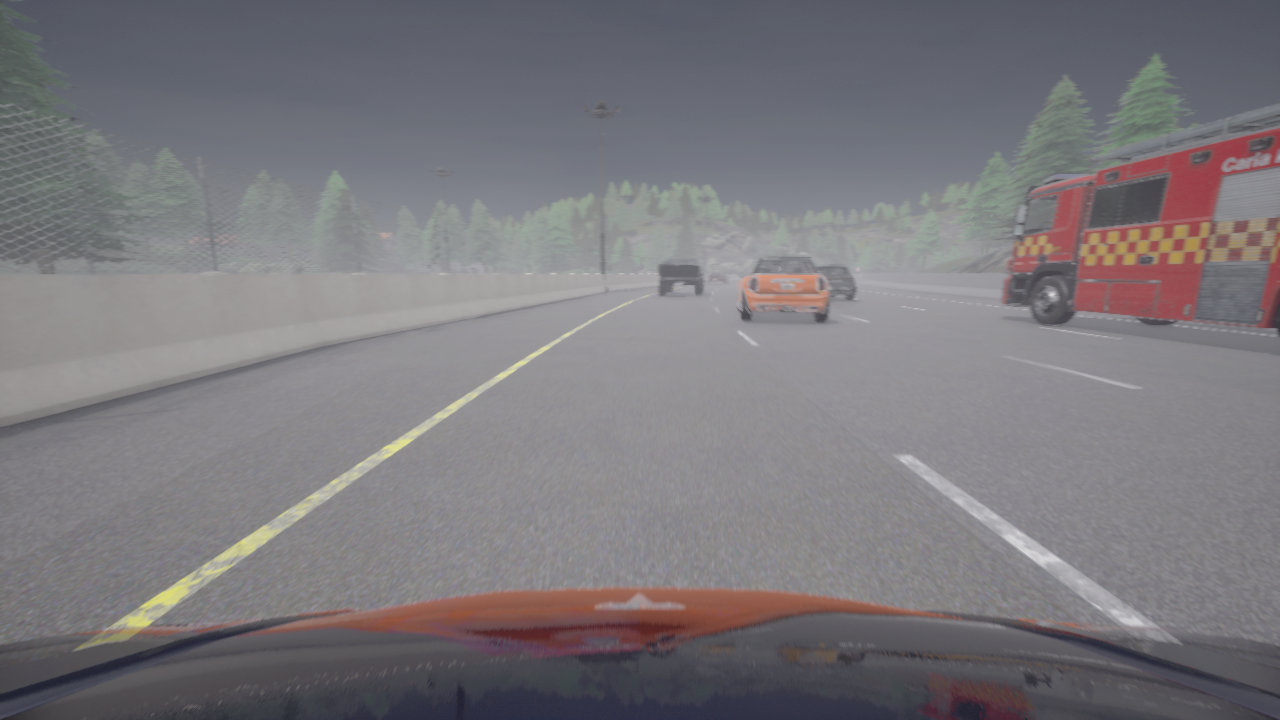cyclist: (0, 588, 1279, 719), (1002, 104, 1279, 338), (737, 250, 829, 322), (657, 258, 705, 296), (816, 265, 855, 300), (708, 272, 728, 284)
